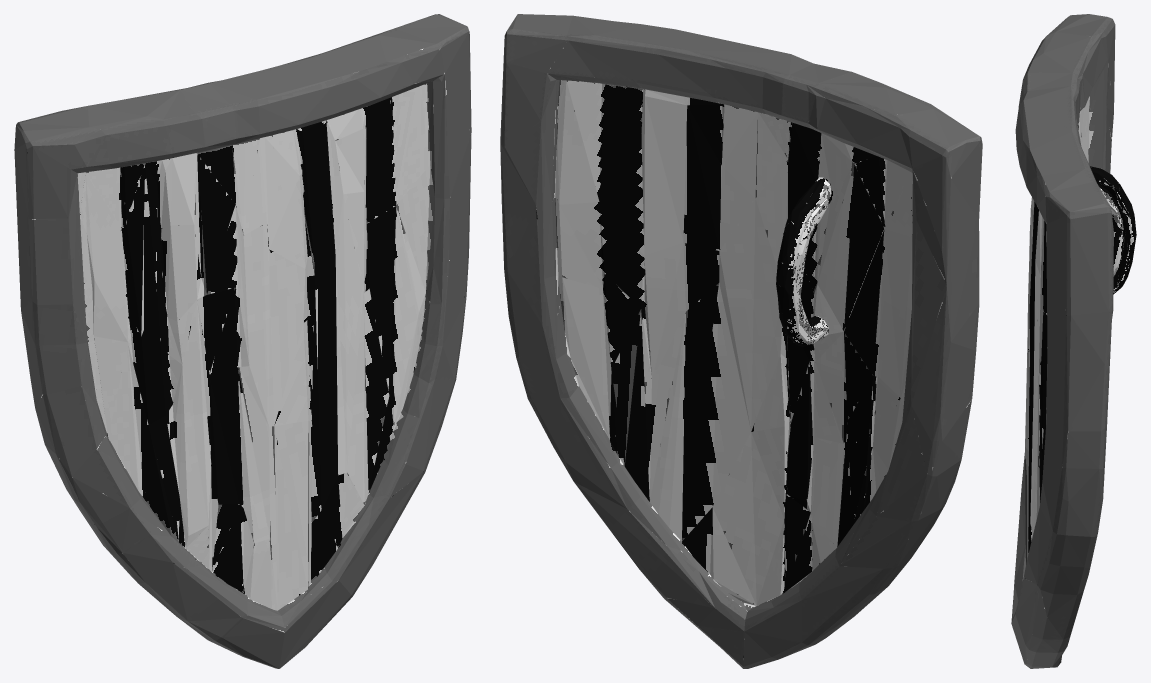
3 renders of one model, left to right at view 1: azimuth 30°, elevation 25°; view 2: azimuth 150°, elevation 25°; view 3: azimuth 270°, elevation 25°, orthographic. The views are drawn at different scales.
Parts seen in each view (by area): view 1: OBJ03c; view 2: OBJ03c; view 3: OBJ03c.
Boxes of the visible parts, left/top/right/bottom form: OBJ03c: left=14, top=14, right=471, bottom=668; OBJ03c: left=500, top=14, right=982, bottom=668; OBJ03c: left=1011, top=14, right=1136, bottom=668.
Bounding box in the file's own units: 0.2861 × 0.3579 × 0.0725.
1 material, 1 textured.
